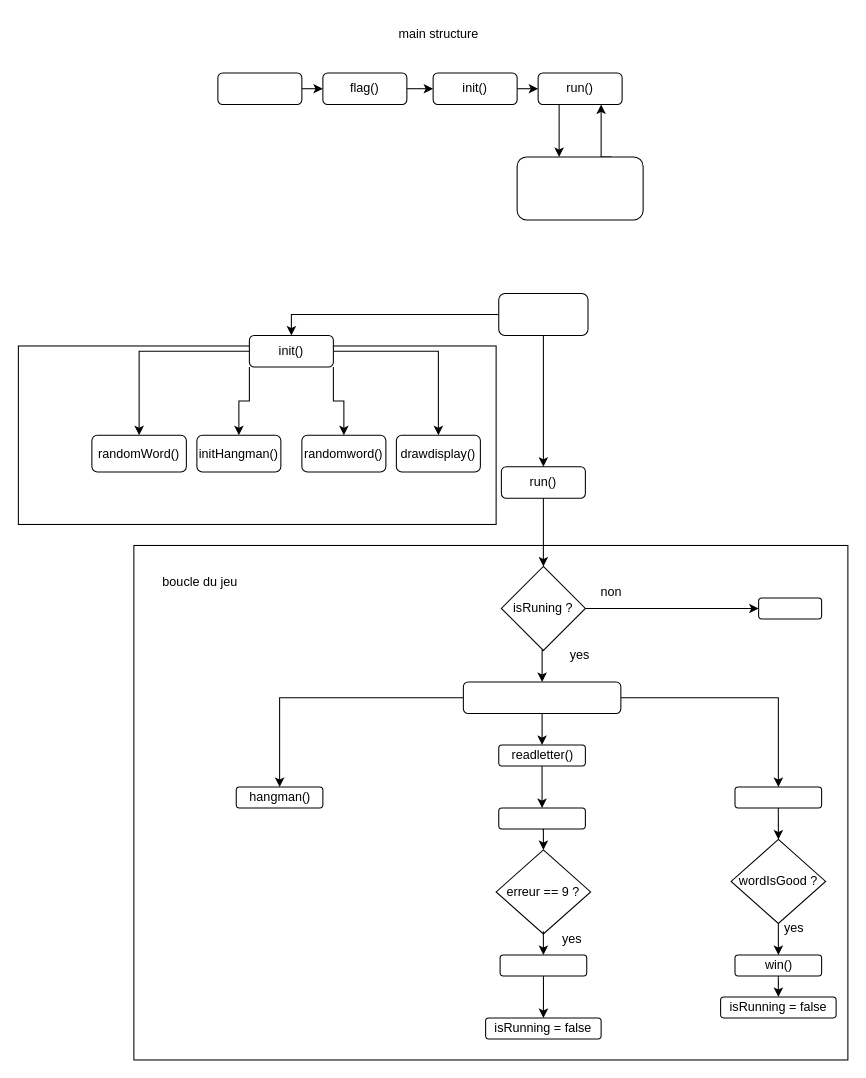
Image size: 866x1078. Some labels were removed from this diagram. Each missing label, with the centre of its shape:
Break: the point at 790,608
gamOver(): the point at 543,965
hangman.HANGMAN: the point at 541,697
isRunning ?: the point at 579,188
MAIN: the point at 543,313
main(): the point at 259,88
testletter(): the point at 541,818
testword(): the point at 778,797
